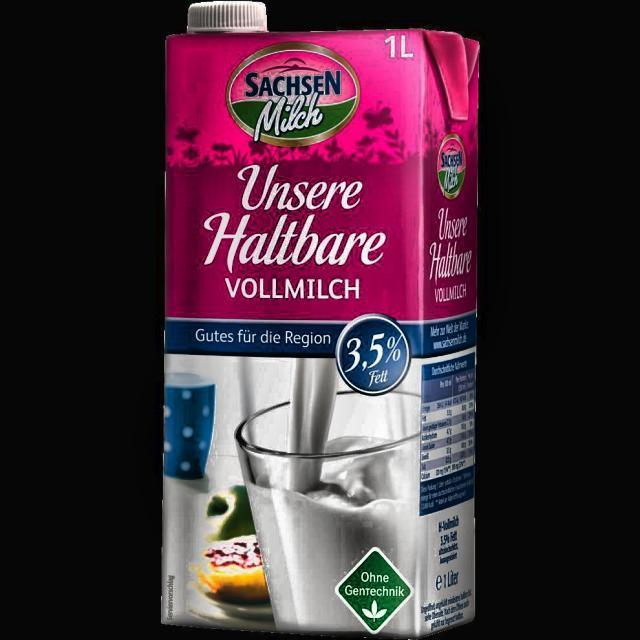cardboard: (160, 20, 480, 637)
